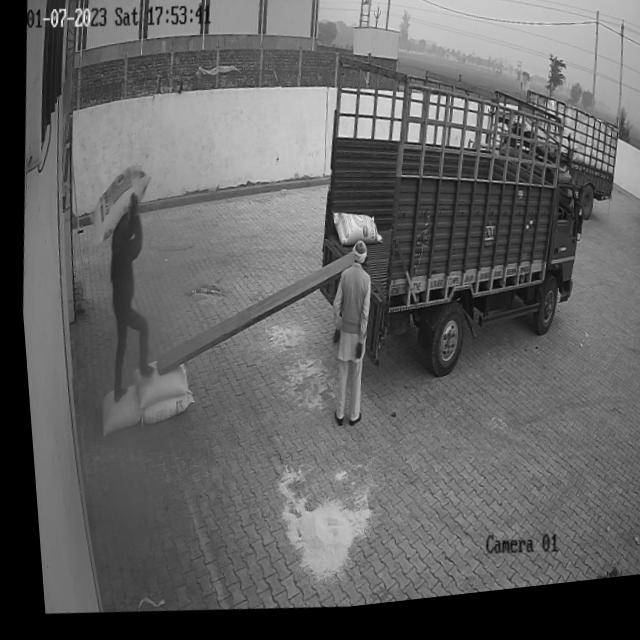sack: (87, 165, 151, 251), (122, 355, 185, 415), (89, 384, 138, 440), (325, 213, 380, 260), (134, 392, 189, 429)
